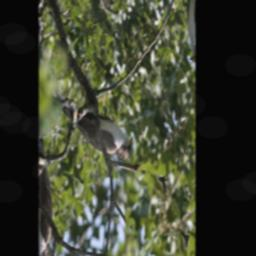Cuckoo: (50, 38, 137, 206)
